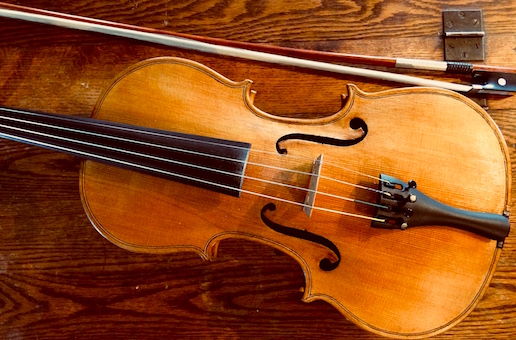Fiddle: (27, 8, 516, 332)
